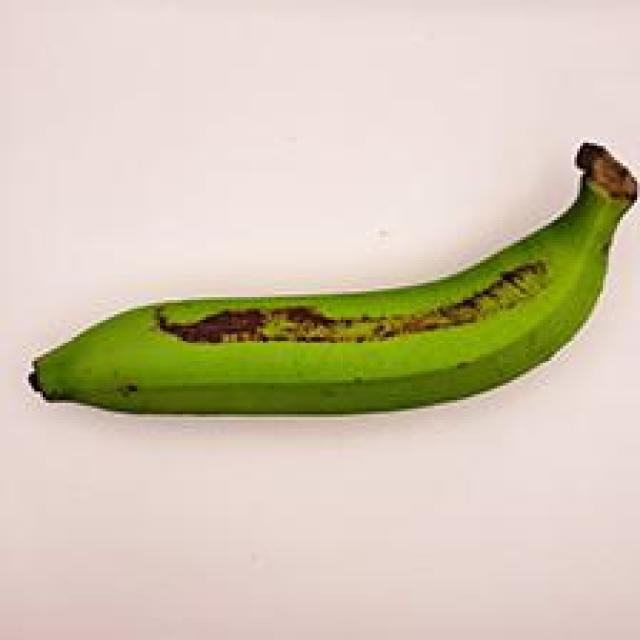Raw: (0, 117, 640, 463)
